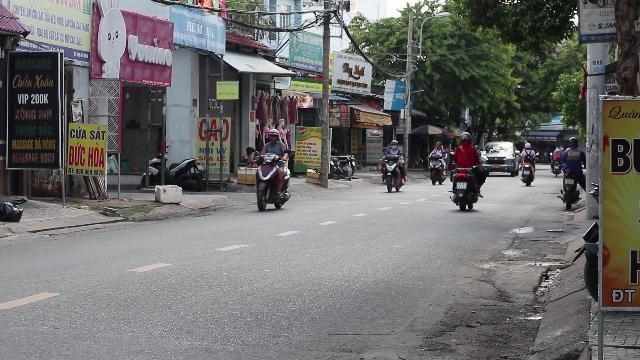helmet: (266, 128, 278, 142)
motorcyclist: (251, 127, 293, 212)
